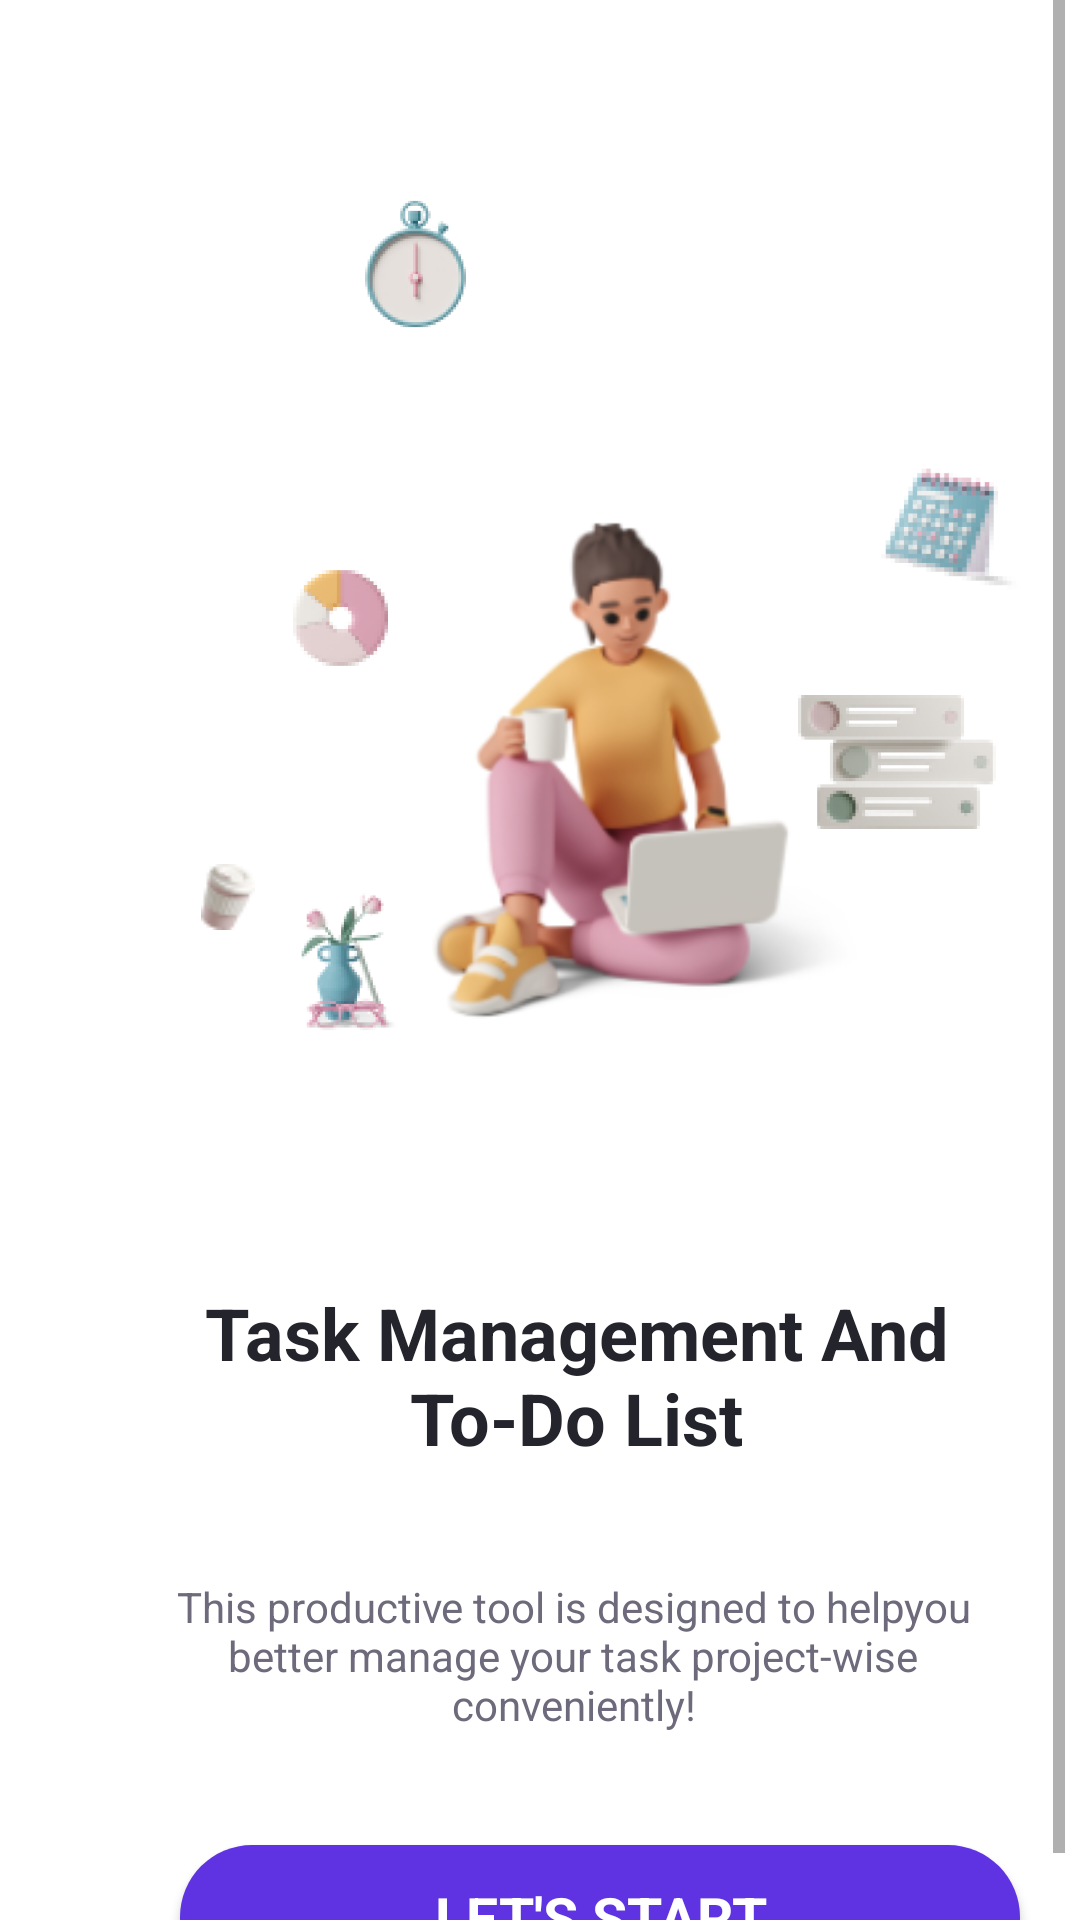

Icon bounding boxes for this 1080px×1920px phone screenshot, format (left=x1, top=y1, right=x2, bottom=y2):
bluestopwatch welcome: (left=365, top=201, right=466, bottom=327)
piechart welcome: (left=296, top=570, right=388, bottom=666)
vase welcome: (left=237, top=870, right=389, bottom=1028)
